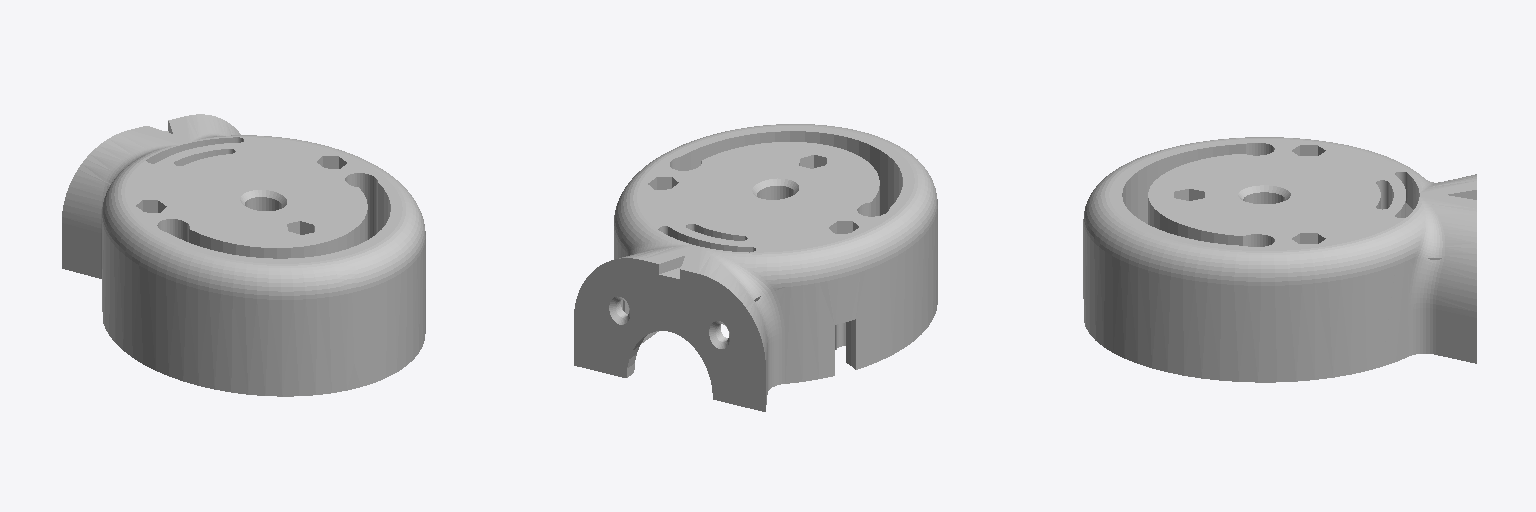
The model's file is obraczacz_chwytakav2.obj.
3 renders of one model, left to right at view 1: azimuth 30°, elevation 25°; view 2: azimuth 150°, elevation 25°; view 3: azimuth 270°, elevation 25°, orthographic.
Visible parts, largest first — view 1: Wrist_Gear_Right_Qty1.001_Wrist_Gear_Right_Qty1.003_Material.001; view 2: Wrist_Gear_Right_Qty1.001_Wrist_Gear_Right_Qty1.003_Material.001; view 3: Wrist_Gear_Right_Qty1.001_Wrist_Gear_Right_Qty1.003_Material.001.
Part boxes in pixels (bbox=[...]): Wrist_Gear_Right_Qty1.001_Wrist_Gear_Right_Qty1.003_Material.001: bbox=[62, 114, 425, 396]; Wrist_Gear_Right_Qty1.001_Wrist_Gear_Right_Qty1.003_Material.001: bbox=[574, 124, 937, 411]; Wrist_Gear_Right_Qty1.001_Wrist_Gear_Right_Qty1.003_Material.001: bbox=[1083, 137, 1476, 382].
Size of the model in its own units: 0.2099 by 0.0912 by 0.266.